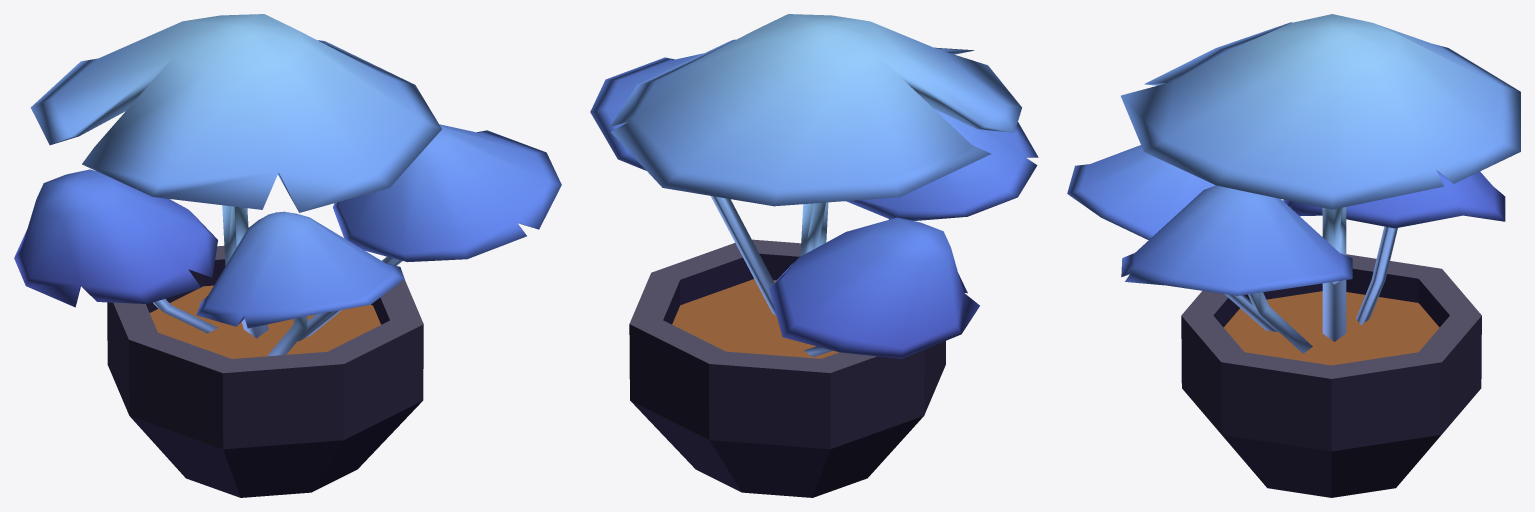
The model's file is pfp30.fbx.
3 views of the same model, side by side, from view 1: azimuth 30°, elevation 25°; view 2: azimuth 150°, elevation 25°; view 3: azimuth 270°, elevation 25° (orthographic). The views are drawn at different scales.
Parts seen in each view (by area): view 1: pfp30; view 2: pfp30; view 3: pfp30.
Part boxes in pixels (x1=…): pfp30: x1=14, y1=14, x2=561, y2=497; pfp30: x1=590, y1=14, x2=1038, y2=497; pfp30: x1=1067, y1=14, x2=1520, y2=497.
Bounding box in the file's own units: 44.27 × 42.06 × 41.34.
